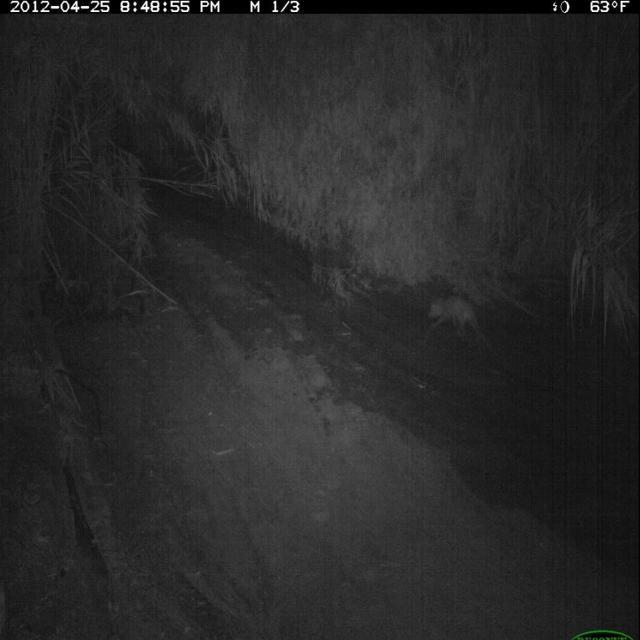opossum: (426, 290, 501, 359)
